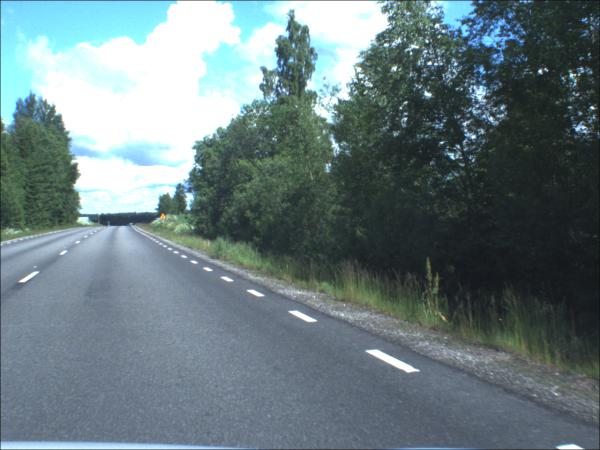WARNING: (161, 213, 168, 221)
